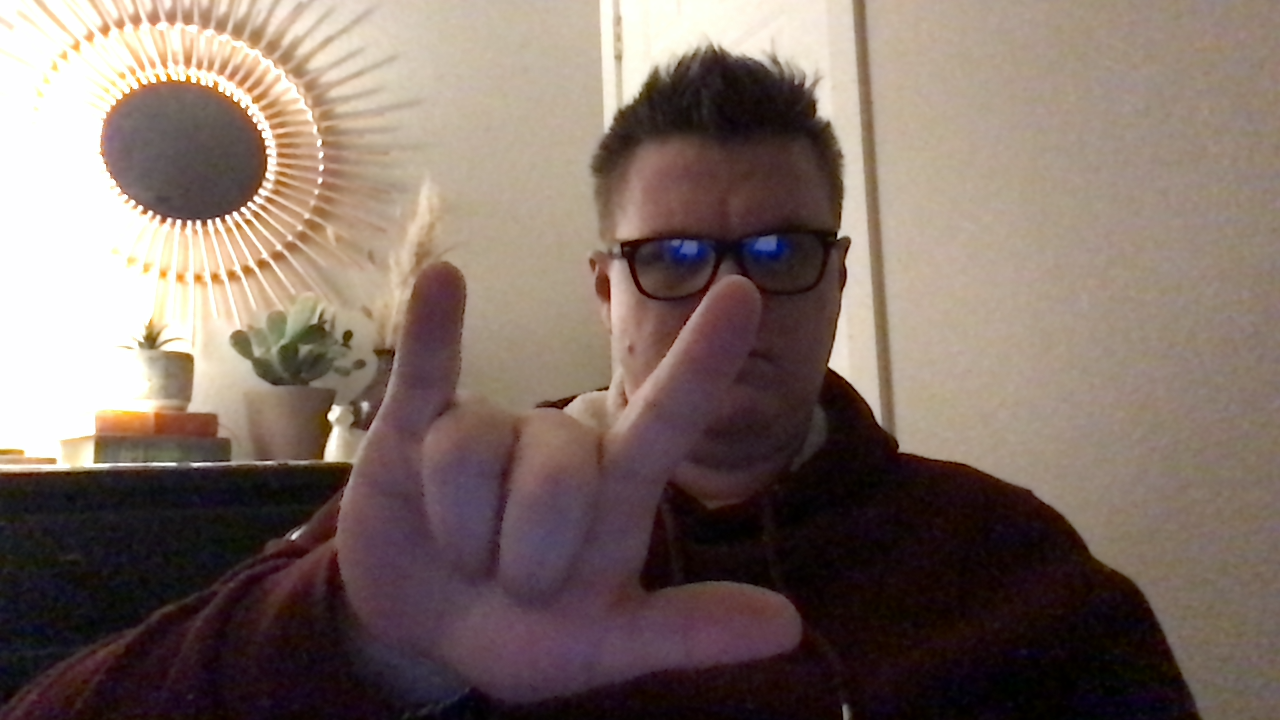iloveyou: (333, 256, 804, 701)
